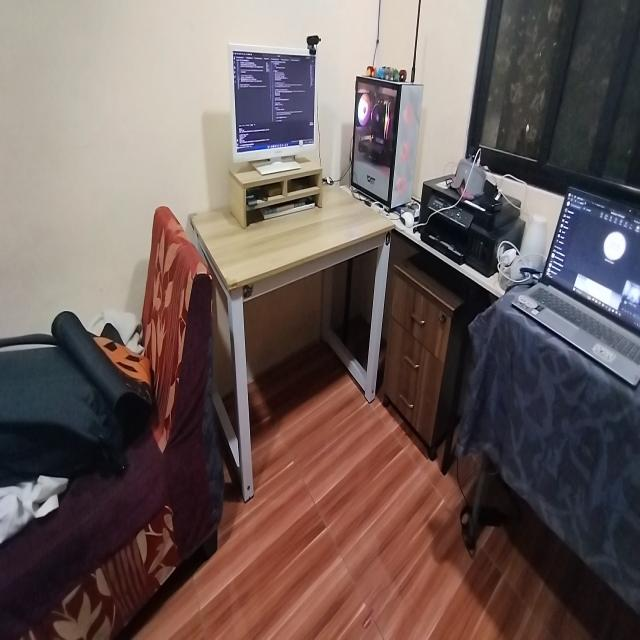table: (191, 177, 398, 492)
